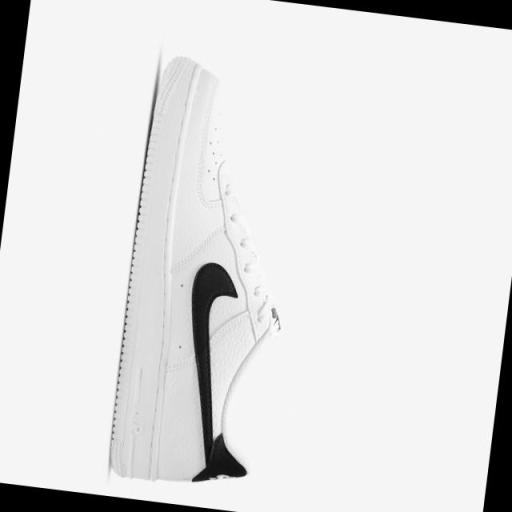Nike: (166, 258, 243, 480)
